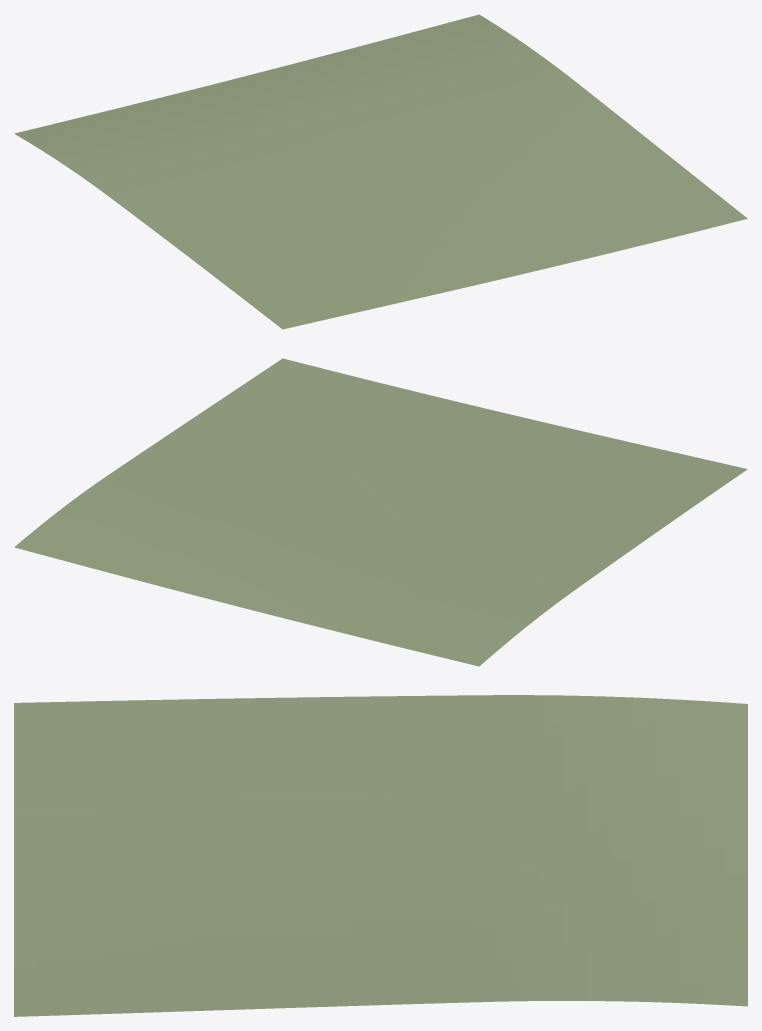
Rendered from expanse-28-7.glb.
3 views of the same model, one above another, from view 1: azimuth 30°, elevation 25°; view 2: azimuth 150°, elevation 25°; view 3: azimuth 270°, elevation 25° (orthographic). The views are drawn at different scales.
Visible parts, largest first — view 1: expanse-28-7; view 2: expanse-28-7; view 3: expanse-28-7.
Boxes of the visible parts, x1,y1,x2,y2 form: expanse-28-7: (14, 14, 747, 329); expanse-28-7: (14, 358, 747, 666); expanse-28-7: (14, 695, 747, 1016).
Bounding box in the file's own units: 256 × 6.6 × 256.
